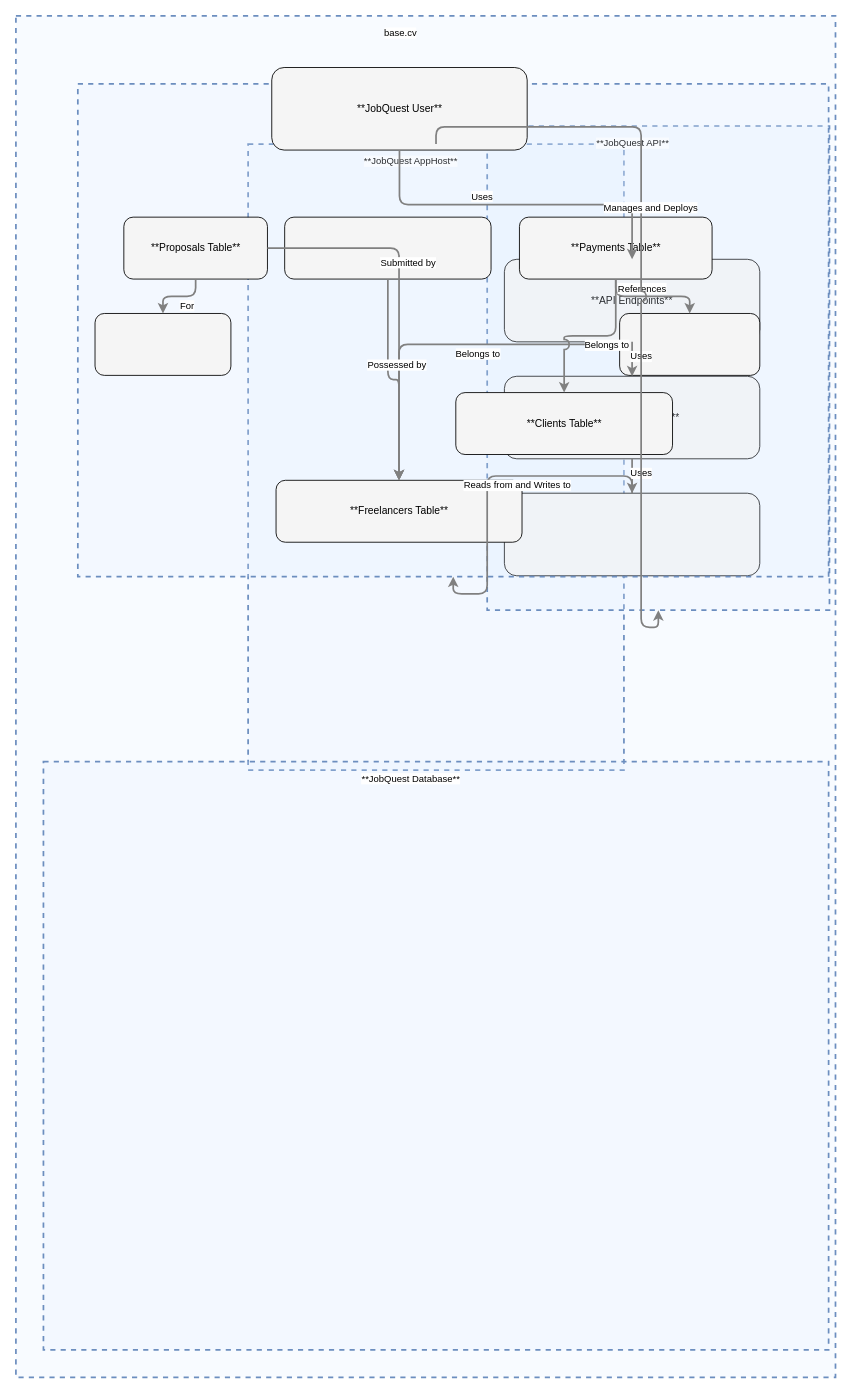
Some shapes in this 851 by 1392 pixel diagram are drawn without their labels. Here are the shapes that lost their labels. From the top down, the centre of each, then its label:
point 387,247: **Skills Table**
point 162,344: **Jobs Table**
point 689,344: **Contracts Table**
point 632,534: **Infrastructure Layer**
